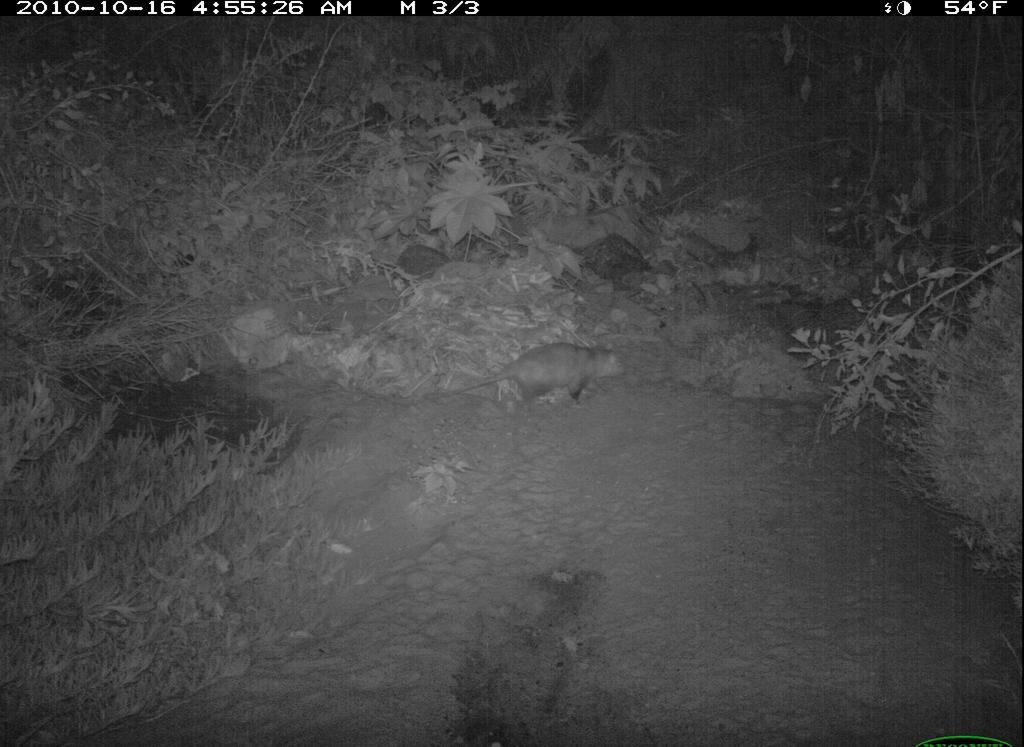opossum: (417, 336, 637, 419)
